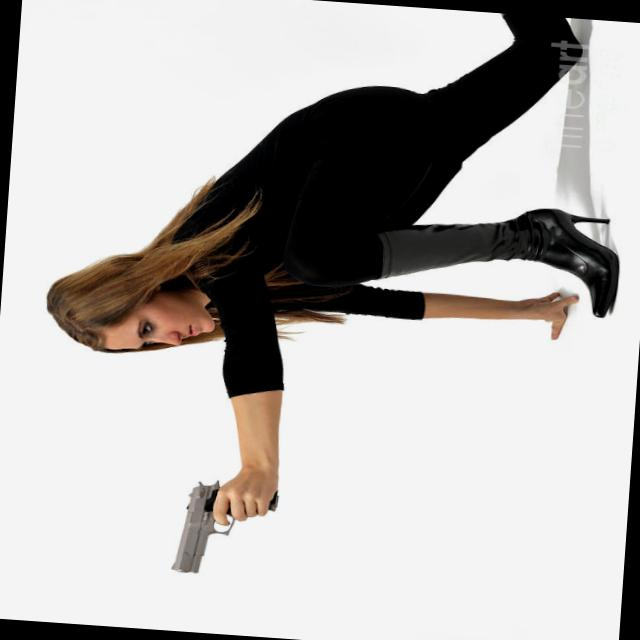handgun: (164, 477, 282, 581)
